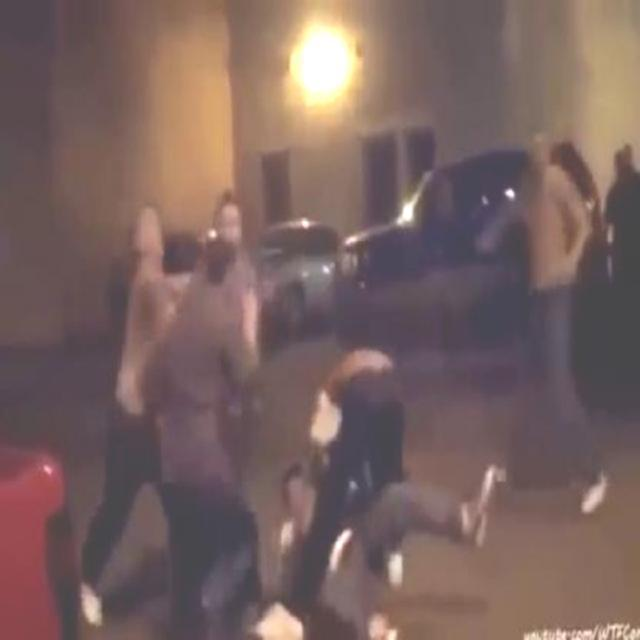fight: (122, 193, 267, 610)
